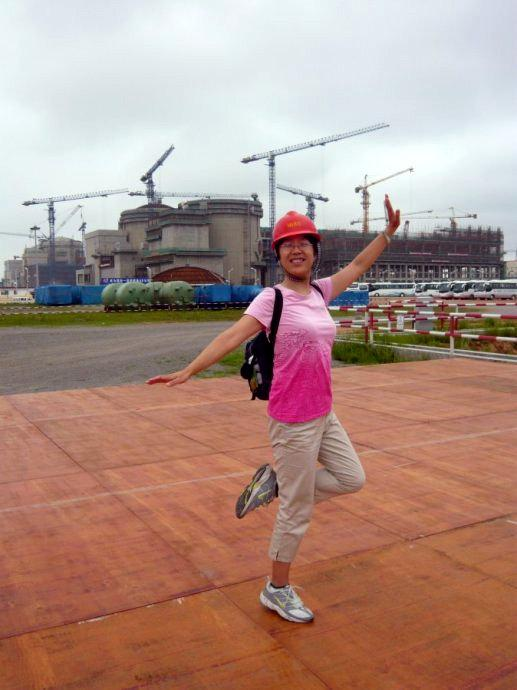helmet: (270, 210, 320, 254)
